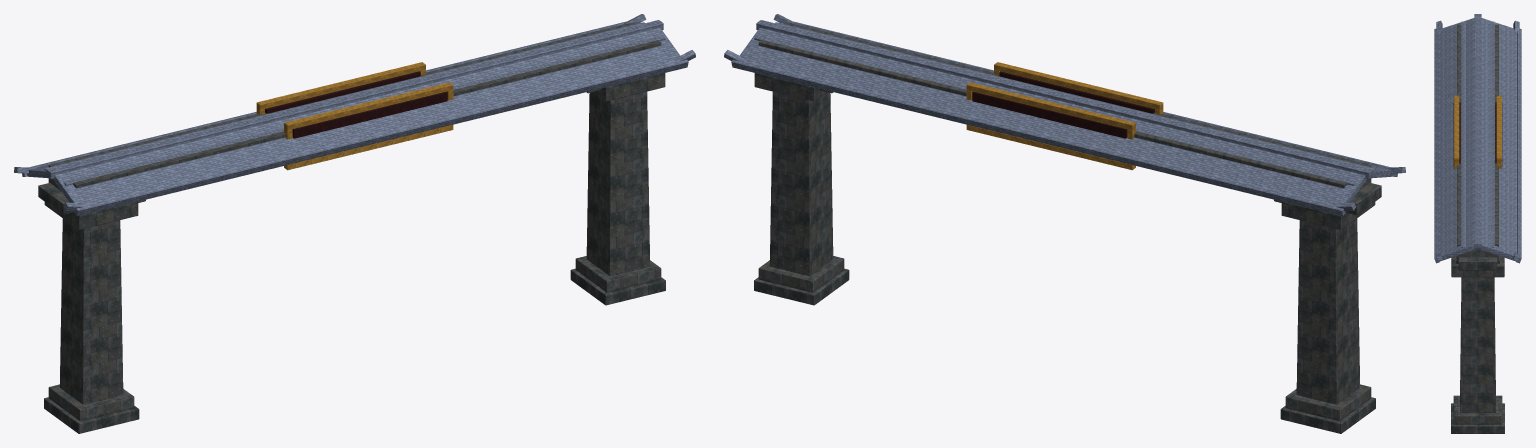
The model's file is palace_gate_frame.glb.
3 renders of one model, left to right at view 1: azimuth 30°, elevation 25°; view 2: azimuth 150°, elevation 25°; view 3: azimuth 270°, elevation 25°, orthographic. The views are drawn at different scales.
Visible parts, largest first — view 1: gate_frame_stone, gate_frame_tile, gate_frame_gold, gate_frame_plaque; view 2: gate_frame_stone, gate_frame_tile, gate_frame_gold, gate_frame_plaque; view 3: gate_frame_tile, gate_frame_stone, gate_frame_gold, gate_frame_plaque.
Part boxes in pixels (bbox=[...]): gate_frame_stone: bbox=[38, 22, 665, 433]; gate_frame_tile: bbox=[14, 14, 695, 216]; gate_frame_gold: bbox=[256, 62, 453, 170]; gate_frame_plaque: bbox=[265, 71, 447, 138]; gate_frame_stone: bbox=[754, 22, 1381, 433]; gate_frame_tile: bbox=[724, 14, 1405, 216]; gate_frame_gold: bbox=[966, 62, 1163, 170]; gate_frame_plaque: bbox=[972, 71, 1154, 138]; gate_frame_tile: bbox=[1434, 14, 1521, 263]; gate_frame_stone: bbox=[1451, 24, 1504, 433]; gate_frame_gold: bbox=[1454, 95, 1501, 168]; gate_frame_plaque: bbox=[1453, 102, 1502, 166].
Size of the model in its own units: 31.09 by 12.09 by 4.86.
Materials: 4 (4 with a texture image).
